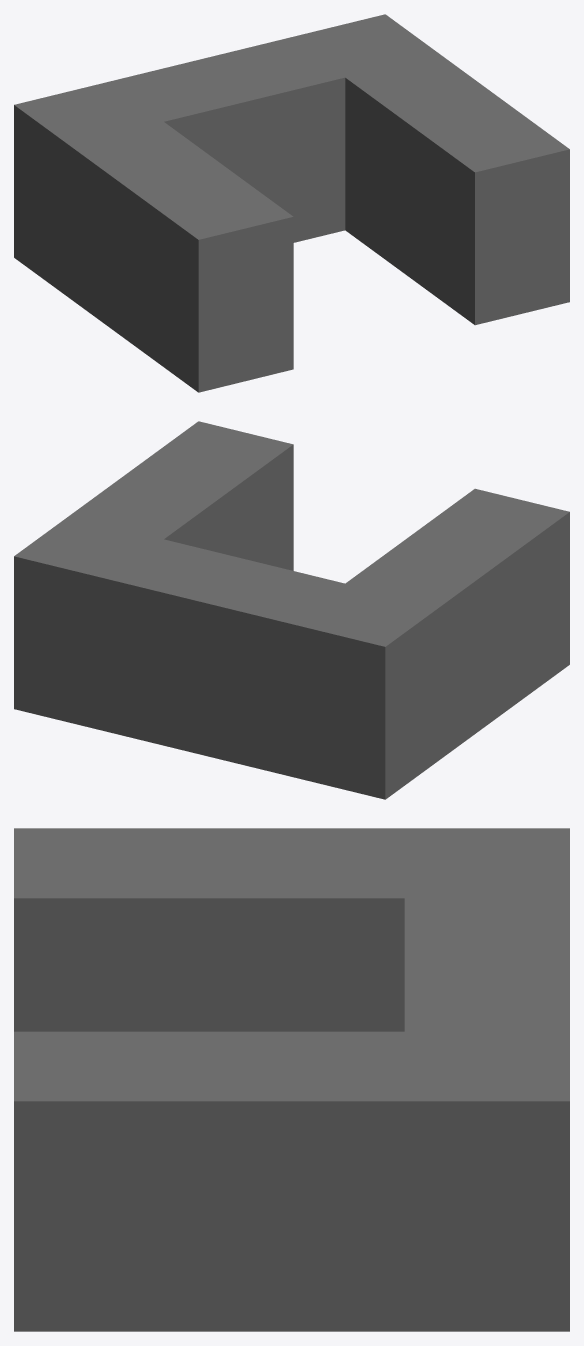
Rendered from Itr_Sofa_Outside_03.FBX.
3 views of the same model, one above another, from view 1: azimuth 30°, elevation 25°; view 2: azimuth 150°, elevation 25°; view 3: azimuth 270°, elevation 25° (orthographic). The views are drawn at different scales.
Visible parts, largest first — view 1: Itr_Sofa_Outside_03; view 2: Itr_Sofa_Outside_03; view 3: Itr_Sofa_Outside_03.
Part boxes in pixels (x1=…): Itr_Sofa_Outside_03: x1=14, y1=14, x2=569, y2=392; Itr_Sofa_Outside_03: x1=14, y1=421, x2=569, y2=799; Itr_Sofa_Outside_03: x1=14, y1=828, x2=569, y2=1331.
Bounding box in the file's own units: 51.28 × 20.16 × 44.13.
